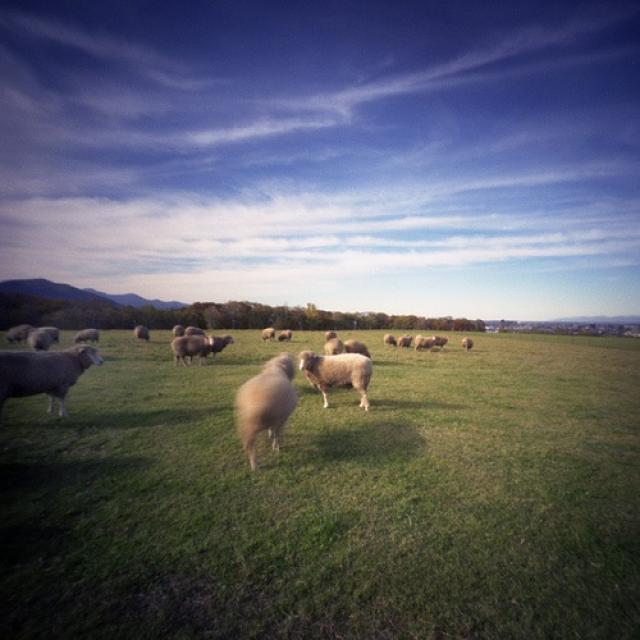sheep: (230, 352, 301, 467), (1, 345, 105, 421), (302, 352, 376, 417), (169, 334, 214, 367), (71, 325, 105, 352), (211, 333, 234, 360), (10, 325, 32, 347), (415, 335, 438, 351), (380, 332, 399, 351), (29, 337, 54, 351), (326, 338, 345, 356), (133, 322, 148, 344), (38, 327, 57, 344), (345, 340, 367, 353), (462, 338, 481, 353), (399, 333, 413, 351), (259, 328, 275, 342), (432, 335, 449, 348), (278, 331, 296, 340)
